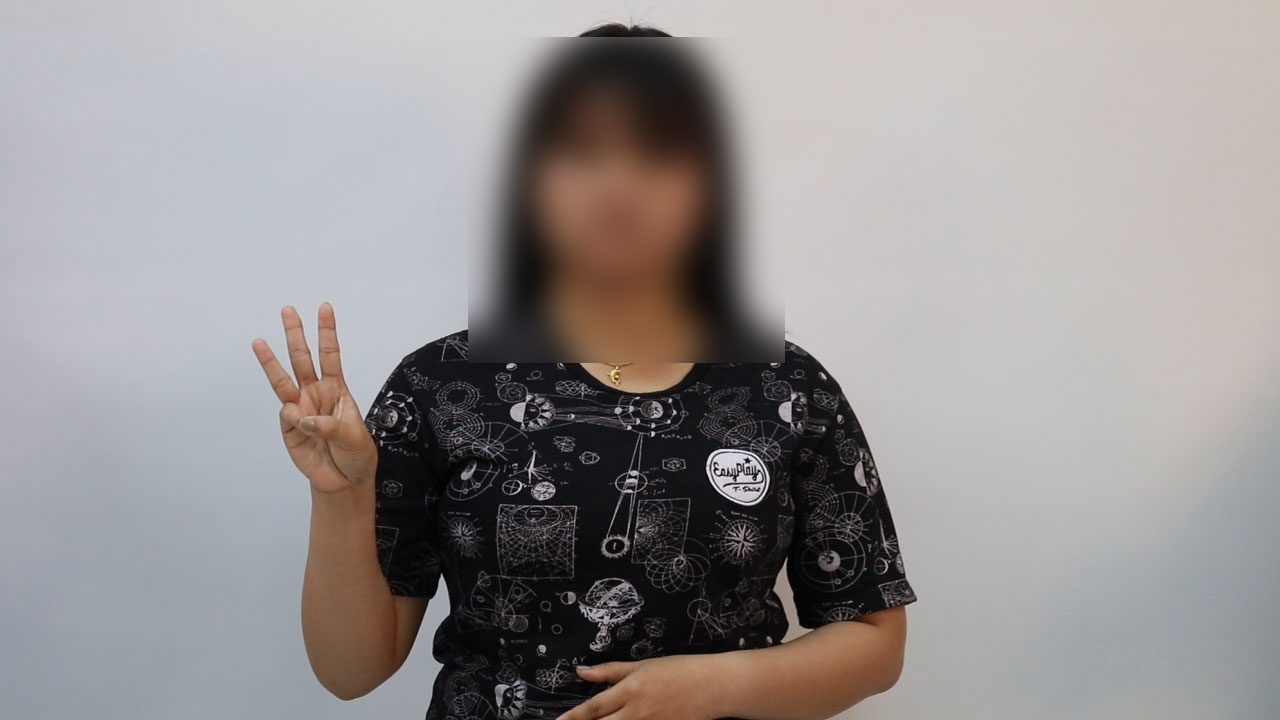wor: (243, 297, 381, 500)
